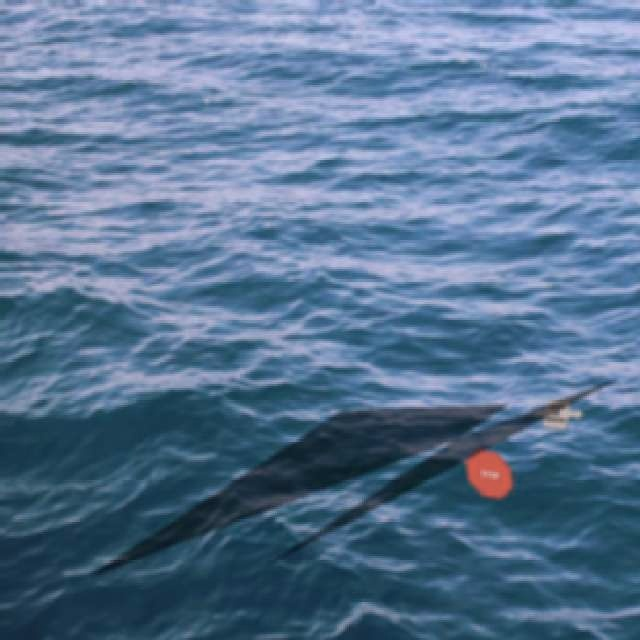DO_NOT_GO_AROUND: (531, 398, 583, 428)
STOP: (463, 446, 512, 498)
